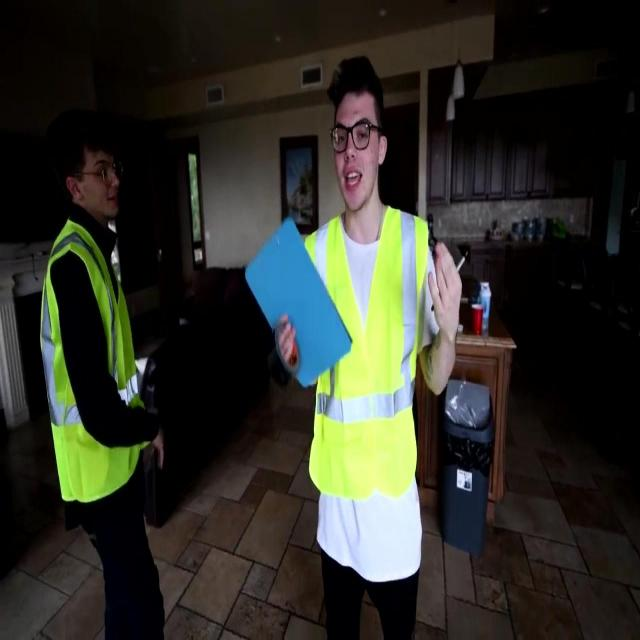Reflective-Jacket: (299, 207, 435, 513), (32, 221, 158, 511)
